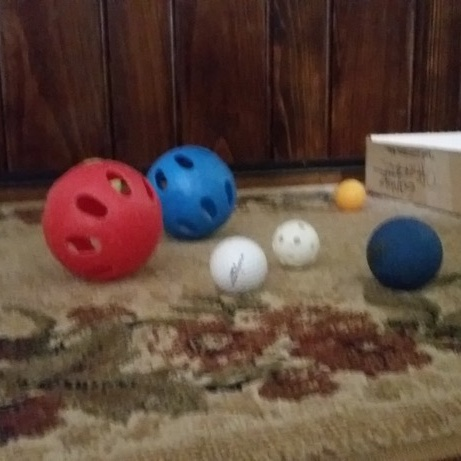blueball: (142, 143, 241, 246)
redball: (37, 153, 166, 287)
